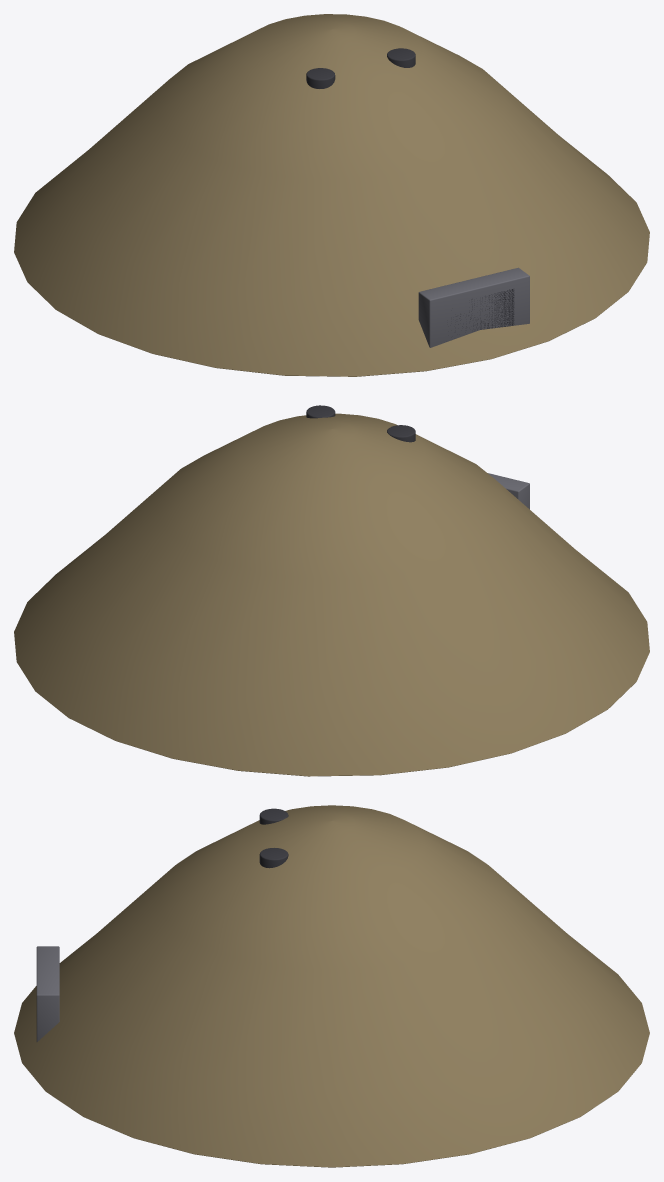
File: mountain_bunker.glb
3 renders of one model, top to bottom at view 1: azimuth 30°, elevation 25°; view 2: azimuth 150°, elevation 25°; view 3: azimuth 270°, elevation 25°, orthographic.
Visible parts, largest first — view 1: mountain_bunker; view 2: mountain_bunker; view 3: mountain_bunker.
Boxes of the visible parts, <box> form: mountain_bunker: <box>14,14,649,376</box>; mountain_bunker: <box>14,405,649,776</box>; mountain_bunker: <box>14,805,649,1167</box>.
Size of the model in its own units: 10.98 by 4.05 by 10.98.
